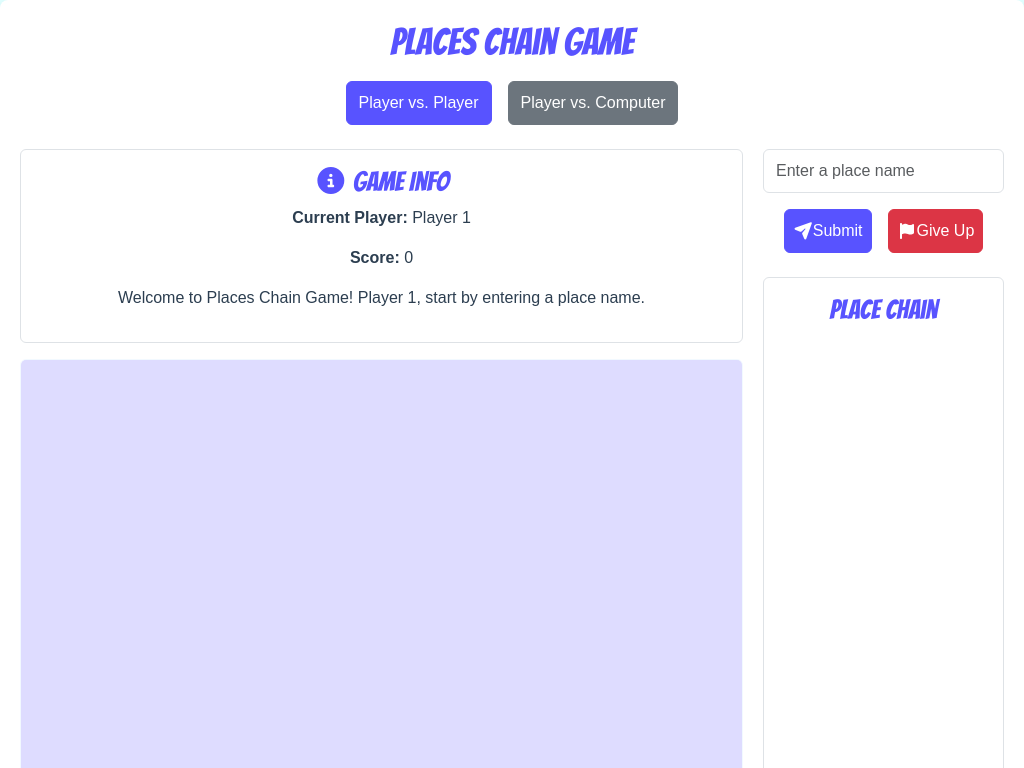
App › handles starting a new game
This screenshot has width=1024, height=768.
Click the button "Give Up".
click(935, 231)  # box [888,209,983,253]
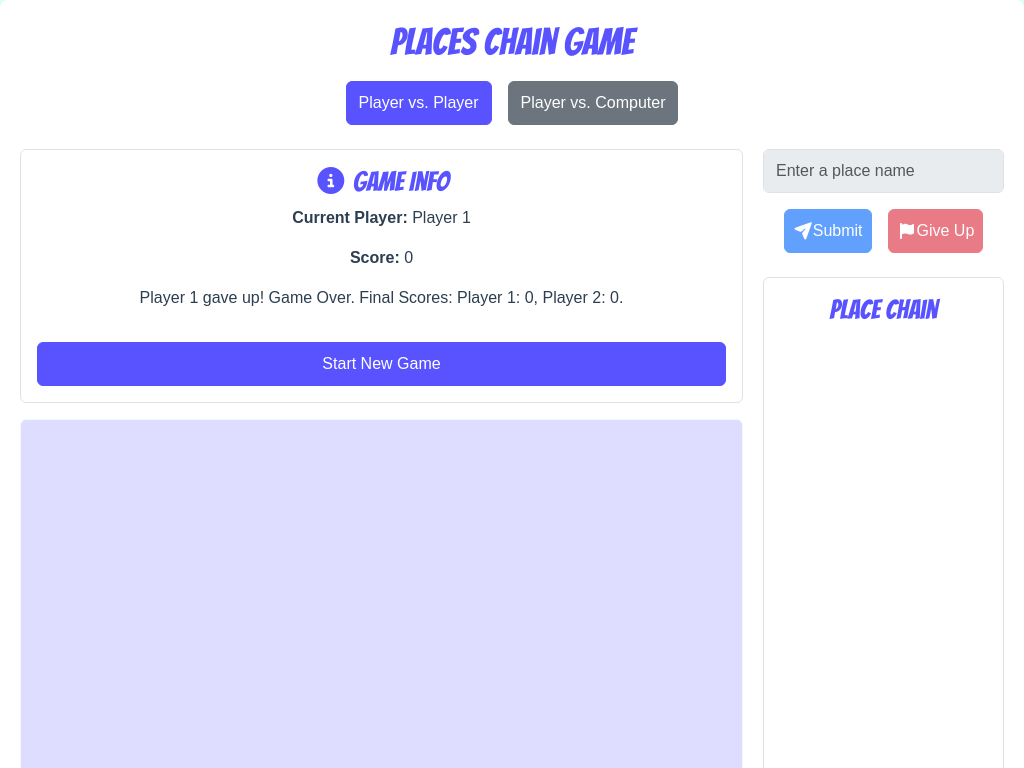
Click the button "Start New Game".
click(382, 364)  # box [37,342,726,386]
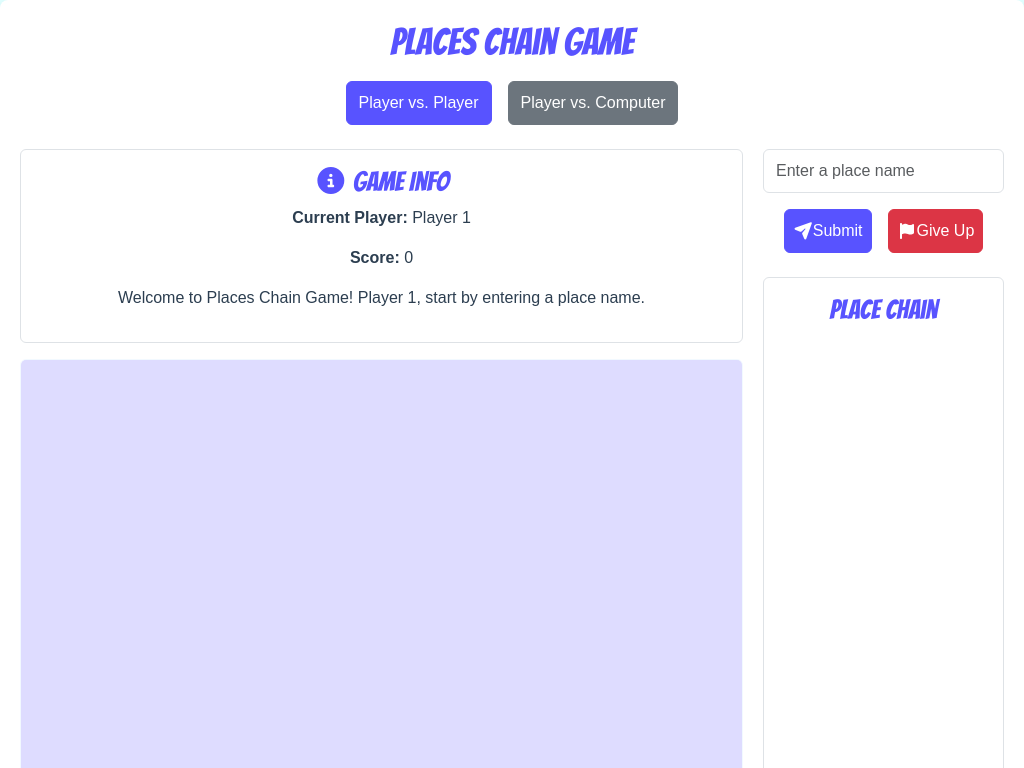
Expected: the text "Welcome to Places Chain Game!" is shown, [118,289,645,306]
